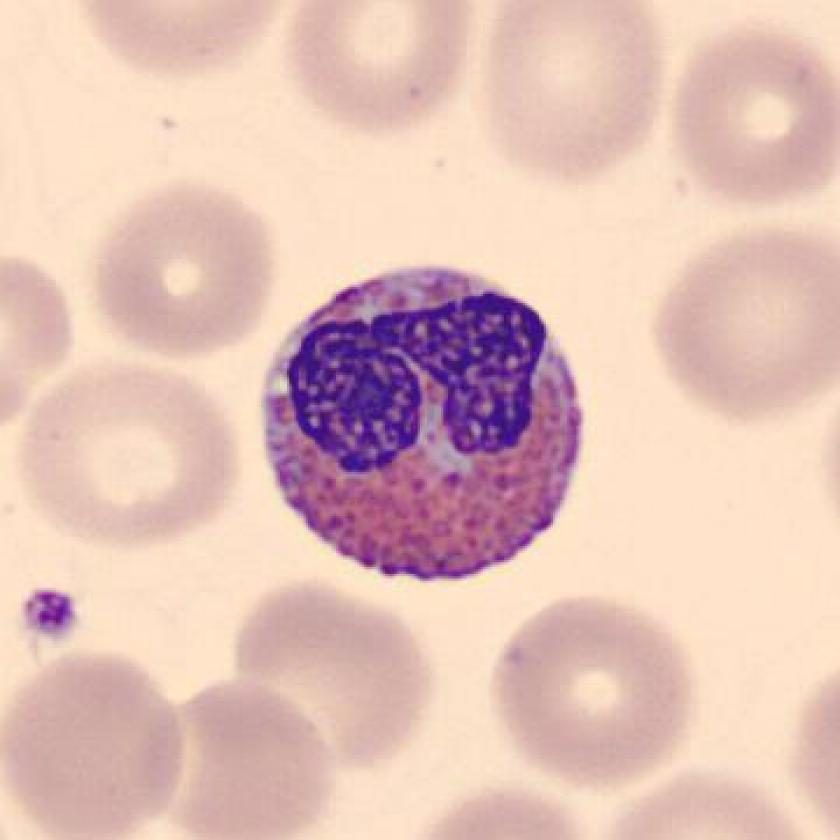eosinophil: (253, 251, 598, 593)
